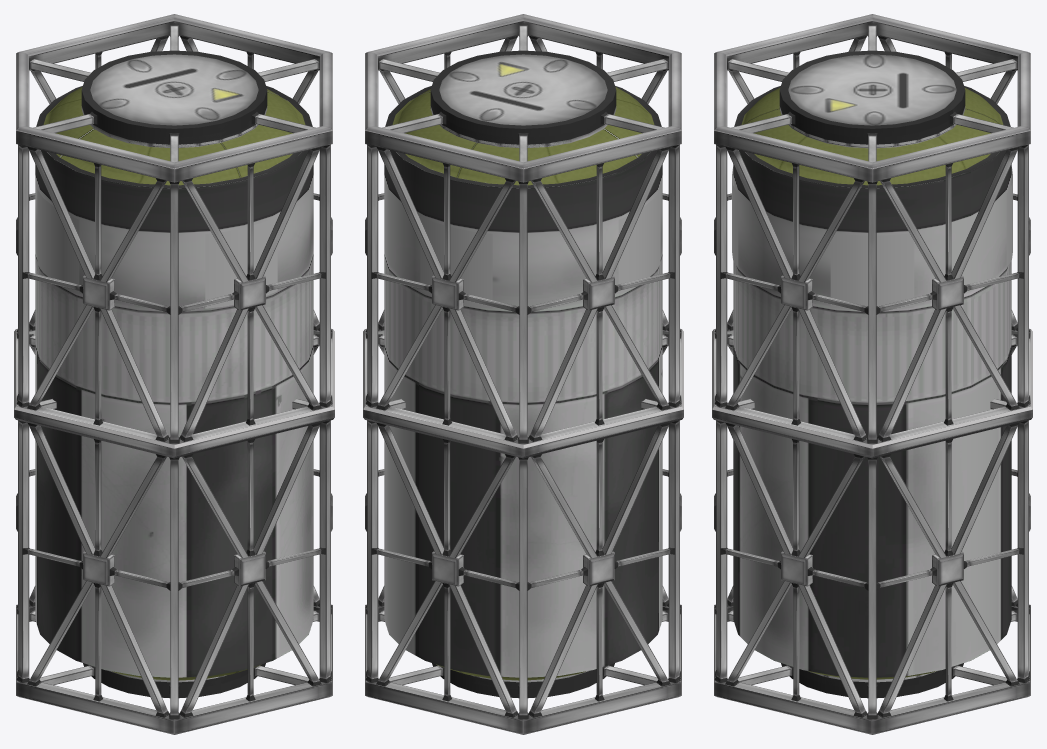
The model's file is HexTruss2.FBX.
The picture shows the model from 3 angles, left to right: view 1: azimuth 30°, elevation 25°; view 2: azimuth 150°, elevation 25°; view 3: azimuth 270°, elevation 25°; orthographic projection.
Parts seen in each view (by area): view 1: TankBody, EndBeam011, EndCap021, EndCap001, EndBeam004, EndBeam012, decalPanel001, Pilar186, Pilar184, Pilar181, Pilar179, Pilar021 (+31 smaller); view 2: TankBody, EndBeam011, EndCap021, EndCap001, EndBeam004, EndBeam012, decalPanel003, Pilar178, Pilar176, Pilar172, Pilar174, Pilar019 (+31 smaller); view 3: TankBody, EndBeam011, EndCap021, EndCap001, EndBeam004, EndBeam012, decalPanel002, Pilar194, Pilar192, Pilar189, Pilar187, Pilar019 (+29 smaller).
Boxes of the visible parts, box(x1,y1,x2,y2) form: TankBody: box(35, 150, 313, 677); EndBeam011: box(16, 14, 332, 182); EndCap021: box(81, 50, 267, 142); EndCap001: box(36, 86, 312, 187); EndBeam004: box(14, 328, 334, 458); EndBeam012: box(16, 604, 332, 734); decalPanel001: box(205, 216, 277, 308); Pilar186: box(179, 147, 321, 441); Pilar184: box(179, 422, 321, 717); Pilar181: box(27, 147, 169, 441); Pilar179: box(27, 422, 169, 717); Pilar021: box(16, 144, 29, 407); TankBody: box(384, 150, 662, 677); EndBeam011: box(365, 14, 681, 182); EndCap021: box(430, 50, 616, 141); EndCap001: box(385, 86, 661, 187); EndBeam004: box(363, 328, 683, 458); EndBeam012: box(365, 604, 681, 734); decalPanel003: box(420, 216, 492, 308); Pilar178: box(528, 147, 670, 441); Pilar176: box(528, 422, 670, 717); Pilar172: box(376, 147, 518, 441); Pilar174: box(376, 422, 518, 717); Pilar019: box(365, 144, 378, 407); TankBody: box(733, 150, 1011, 677); EndBeam011: box(714, 14, 1030, 182); EndCap021: box(779, 50, 965, 141); EndCap001: box(734, 86, 1010, 187); EndBeam004: box(712, 328, 1032, 458); EndBeam012: box(714, 604, 1030, 734); decalPanel002: box(830, 233, 914, 309); Pilar194: box(877, 147, 1019, 441); Pilar192: box(877, 422, 1019, 717); Pilar189: box(725, 147, 867, 441); Pilar187: box(725, 422, 867, 717); Pilar019: box(1017, 144, 1030, 407).
Size of what is drawn, in the model's own units: 2.49 by 4.23 by 2.16.
